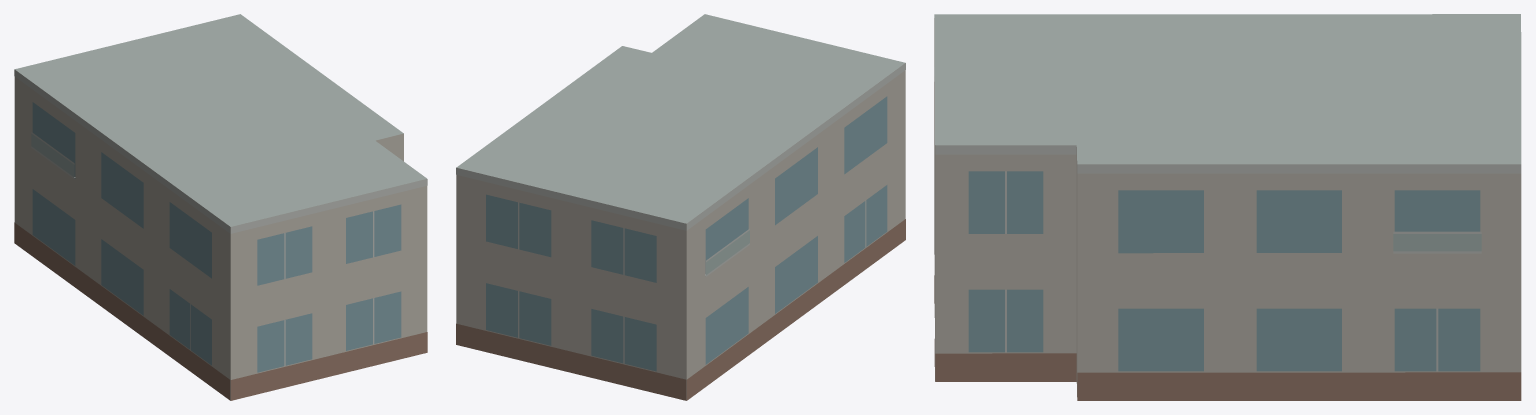
File: survey-upis-32811165.glb
3 renders of one model, left to right at view 1: azimuth 30°, elevation 25°; view 2: azimuth 150°, elevation 25°; view 3: azimuth 270°, elevation 25°, orthographic. The views are drawn at different scales.
Parts seen in each view (by area): view 1: survey-upis-32811165.tmp; view 2: survey-upis-32811165.tmp; view 3: survey-upis-32811165.tmp.
Boxes of the visible parts, x1,y1,x2,y2 form: survey-upis-32811165.tmp: (14,14,427,400); survey-upis-32811165.tmp: (456,14,905,400); survey-upis-32811165.tmp: (934,14,1521,400).
Size of the model in its own units: 8.38 by 6.1 by 13.73.
